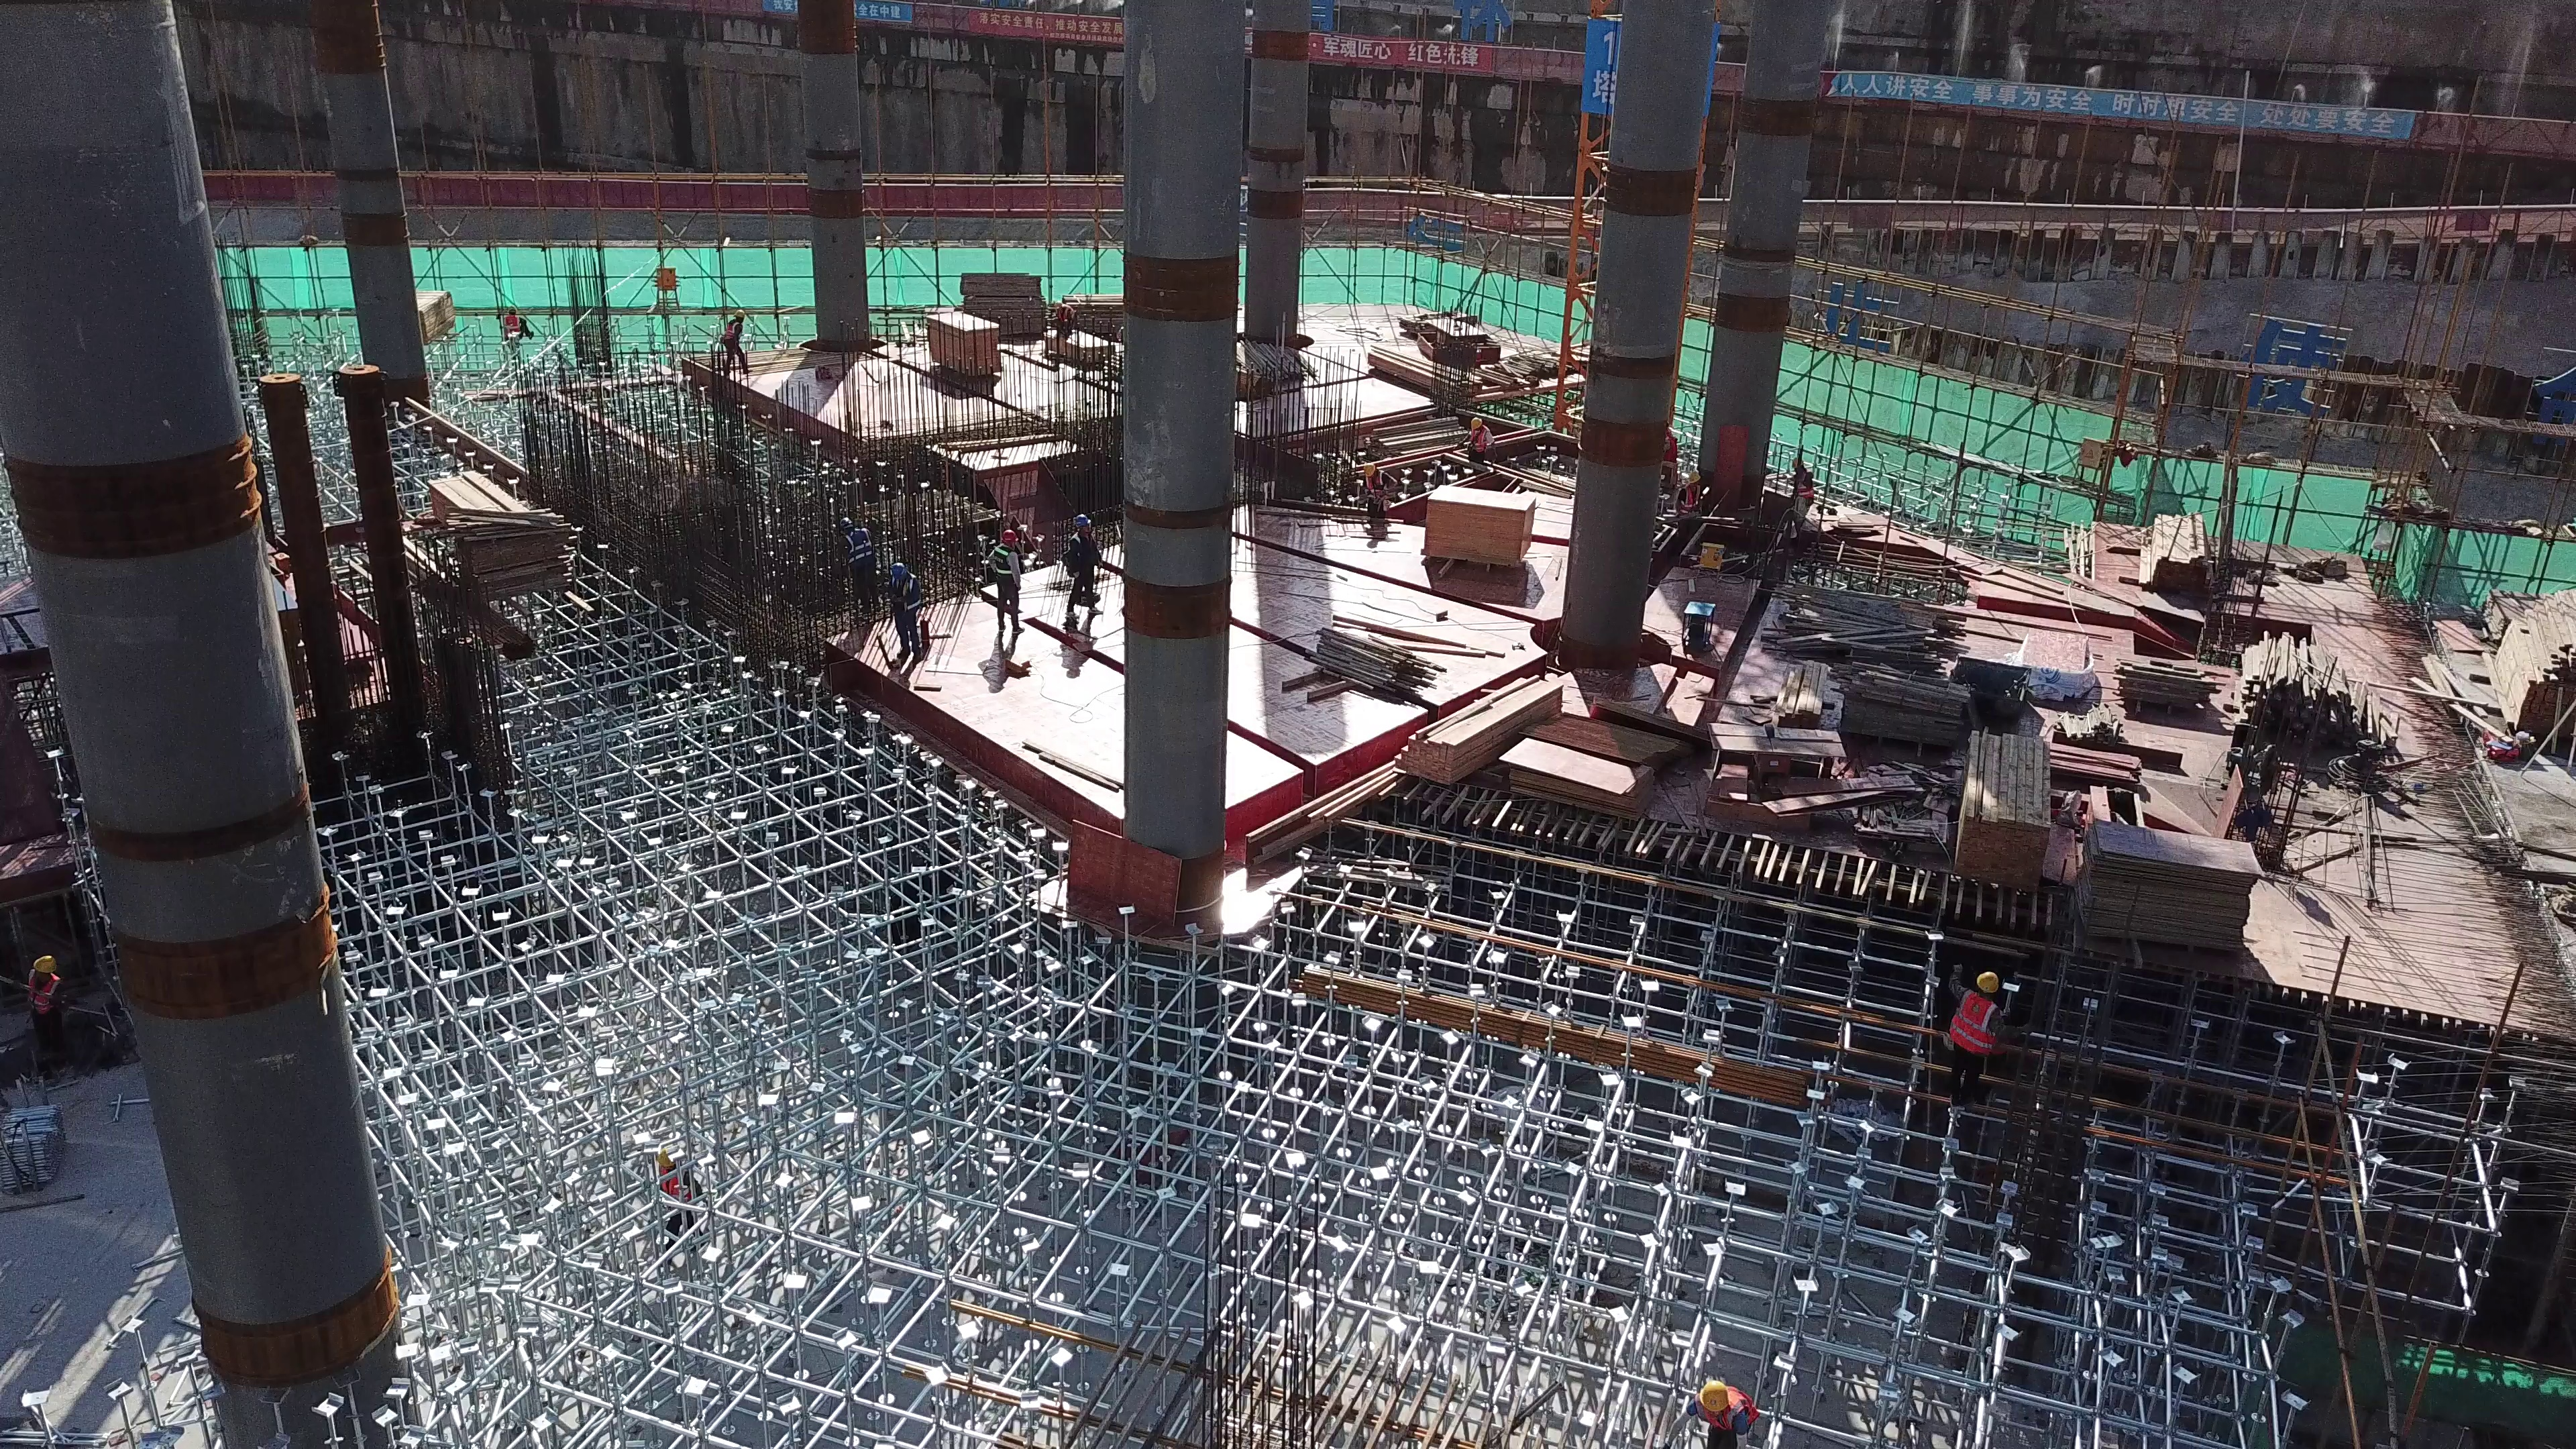board: (2068, 819, 2260, 959), (1500, 724, 1652, 822), (1419, 481, 1546, 565), (922, 306, 998, 382)
ebox: (1696, 541, 1727, 576)
helmet: (1692, 1381, 1732, 1413), (1974, 967, 2003, 995), (1071, 514, 1093, 527), (891, 563, 908, 580), (1000, 527, 1018, 541), (1468, 416, 1485, 430), (1362, 460, 1377, 476), (838, 518, 853, 533), (733, 309, 749, 319), (1688, 475, 1703, 484), (1794, 458, 1805, 469)
person: (1938, 965, 2032, 1098), (1668, 1361, 1769, 1449), (979, 525, 1027, 637), (881, 562, 932, 663), (834, 513, 880, 619), (1067, 504, 1104, 624), (1356, 460, 1403, 516), (720, 308, 754, 382), (1461, 415, 1502, 464), (1785, 458, 1817, 506), (498, 307, 535, 344), (1659, 428, 1682, 485), (1680, 474, 1708, 519)
scaffold: (1, 1103, 72, 1194)
slogan: (1840, 70, 2408, 136), (1315, 22, 1497, 70), (967, 5, 1119, 44), (855, 5, 910, 24)
vest: (1945, 995, 2010, 1052), (1730, 1383, 1762, 1427), (884, 577, 925, 610), (840, 533, 878, 566), (985, 543, 1019, 576), (1361, 475, 1395, 500), (1678, 487, 1706, 514), (1792, 475, 1815, 502), (1662, 436, 1680, 467), (1467, 431, 1486, 452)
wood: (1394, 654, 1570, 778), (2236, 637, 2386, 754), (1948, 729, 2060, 881), (1752, 591, 1962, 663), (1823, 662, 1965, 751)
